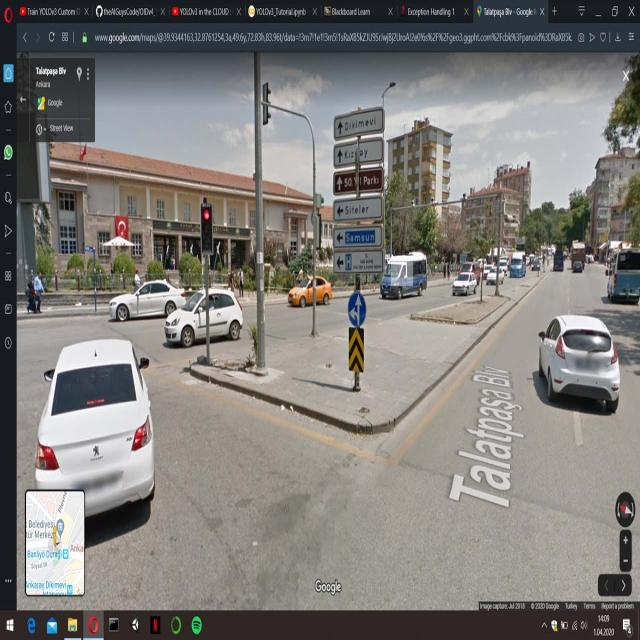ilerisol: (348, 292, 370, 326)
kirmizi: (201, 204, 213, 254)
